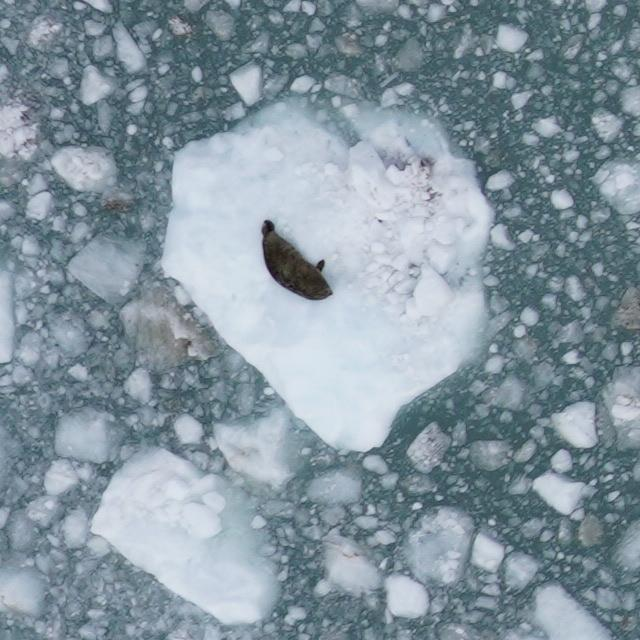seal: (258, 215, 336, 303)
